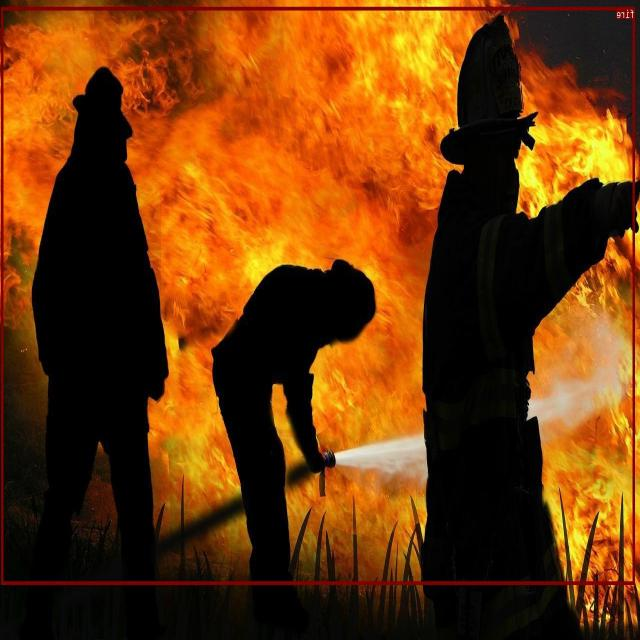fire: (2, 6, 636, 584)
